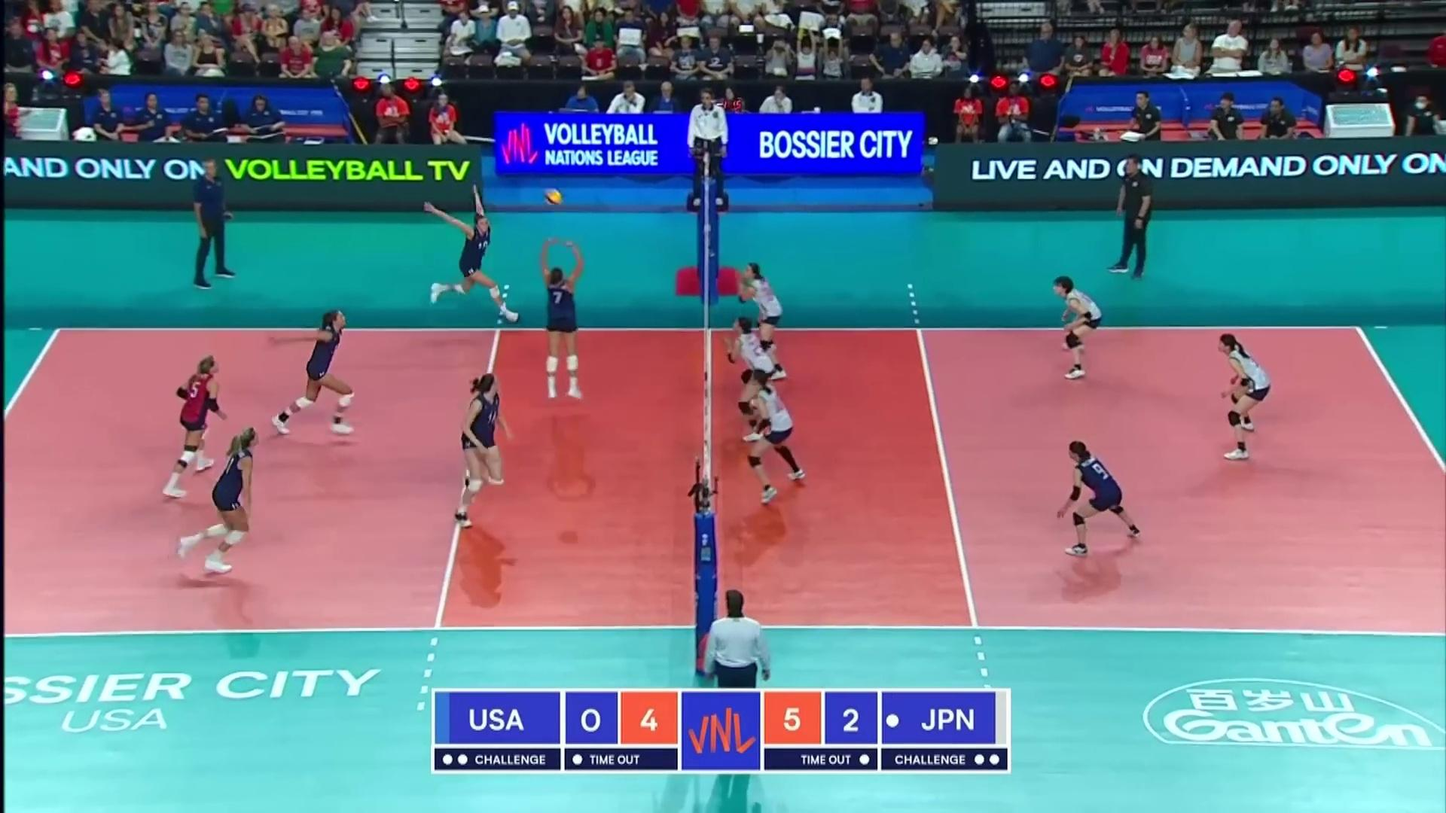player: (423, 184, 520, 322), (178, 425, 257, 576), (270, 310, 354, 440), (1058, 441, 1144, 554), (159, 357, 226, 501), (457, 372, 514, 531), (747, 370, 807, 505), (540, 238, 586, 401), (1218, 333, 1272, 460), (726, 318, 776, 442), (738, 263, 786, 378), (1054, 277, 1102, 380)
refree: (703, 592, 774, 687), (686, 91, 728, 207)
